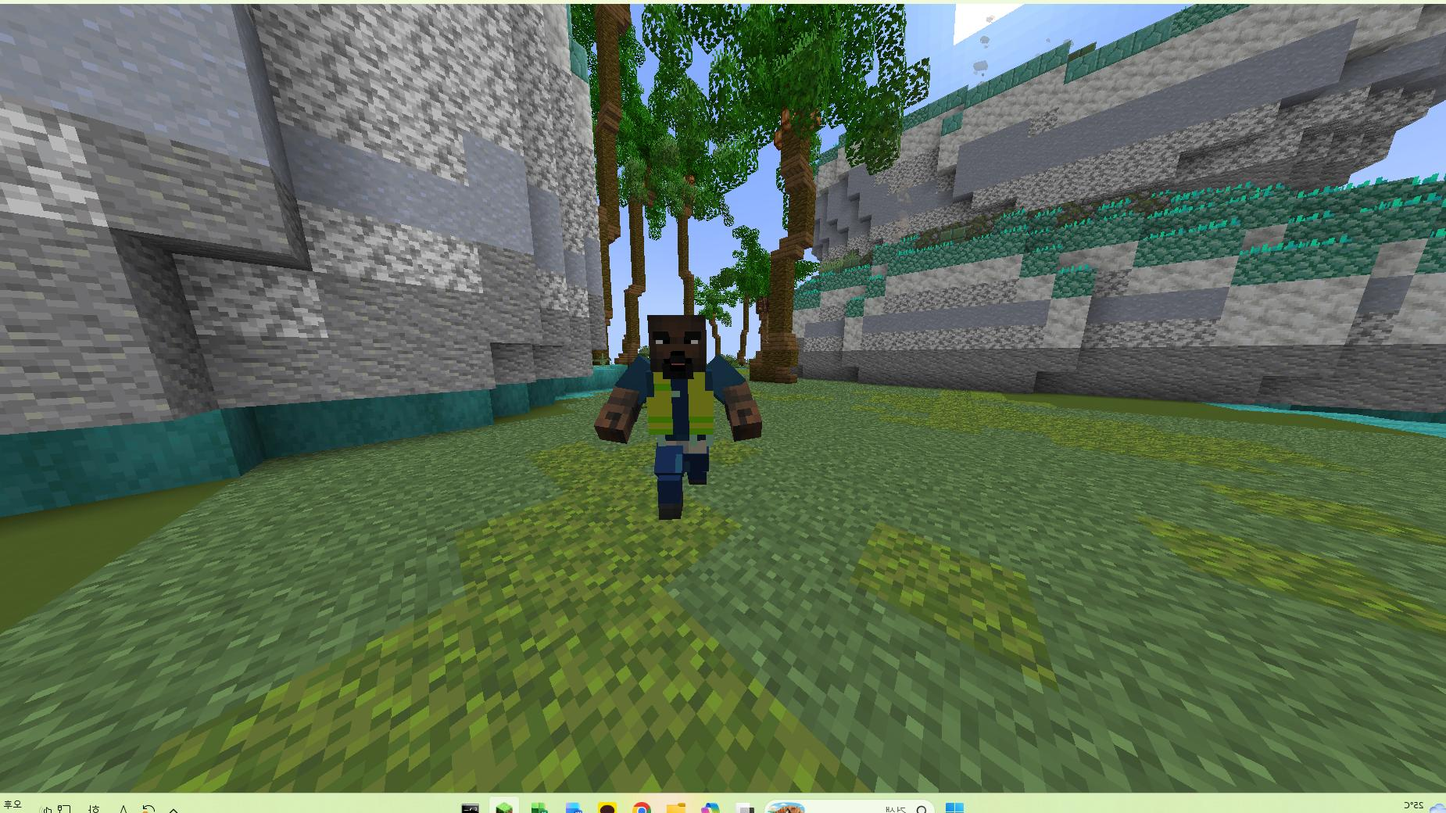Guardian: (595, 314, 761, 519)
